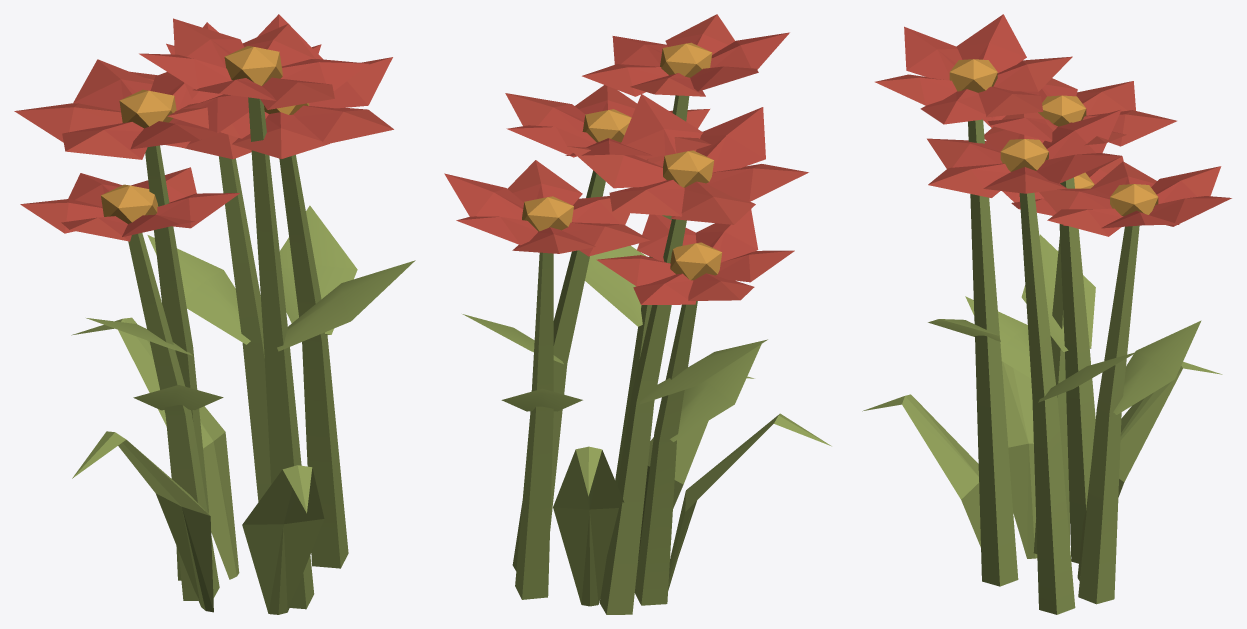
Rendered from foliage_wildflower_c.glb.
The picture shows the model from 3 angles, left to right: view 1: azimuth 30°, elevation 25°; view 2: azimuth 150°, elevation 25°; view 3: azimuth 270°, elevation 25°; orthographic projection. The views are drawn at different scales.
Parts seen in each view (by area): view 1: foliage_wildflower_c_cluster_material_00, foliage_wildflower_c_cluster_material_01; view 2: foliage_wildflower_c_cluster_material_01, foliage_wildflower_c_cluster_material_00; view 3: foliage_wildflower_c_cluster_material_00, foliage_wildflower_c_cluster_material_01.
Part boxes in pixels (bbox=[...]): foliage_wildflower_c_cluster_material_00: bbox=[71, 97, 415, 614]; foliage_wildflower_c_cluster_material_01: bbox=[14, 14, 393, 241]; foliage_wildflower_c_cluster_material_01: bbox=[444, 14, 808, 304]; foliage_wildflower_c_cluster_material_00: bbox=[462, 95, 831, 614]; foliage_wildflower_c_cluster_material_00: bbox=[862, 119, 1222, 614]; foliage_wildflower_c_cluster_material_01: bbox=[875, 14, 1231, 236].
Size of the model in its own units: 0.2988 by 0.4933 by 0.3266.
